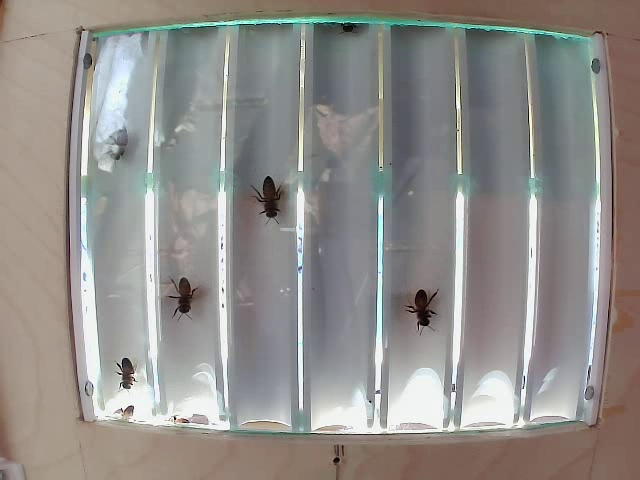bee: (244, 169, 294, 239), (163, 263, 205, 328), (99, 343, 148, 396), (93, 118, 142, 170), (411, 288, 447, 341)
